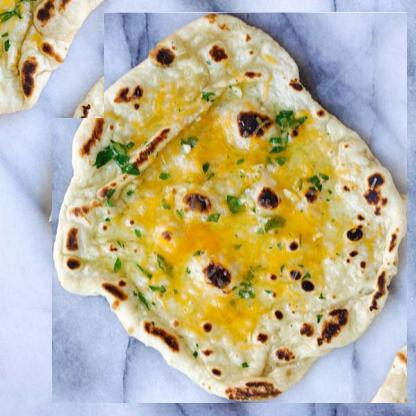naan: (52, 12, 408, 403), (0, 0, 104, 118)
